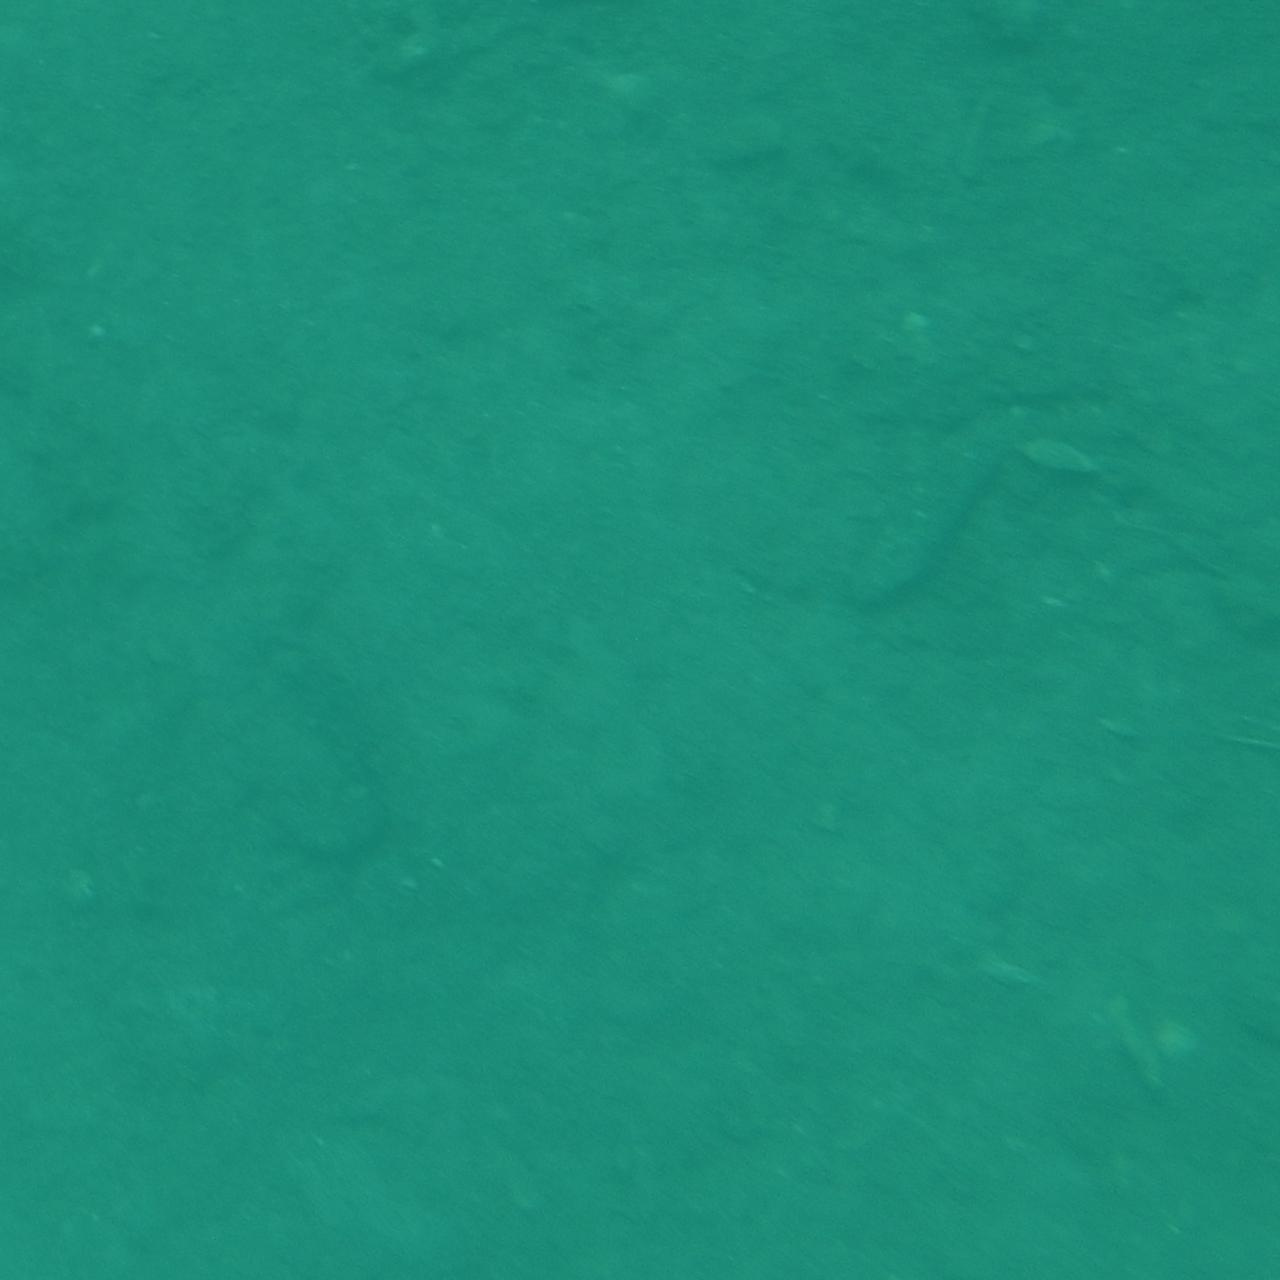Holothuria tubulosa: (842, 399, 1049, 646), (241, 628, 430, 888)
